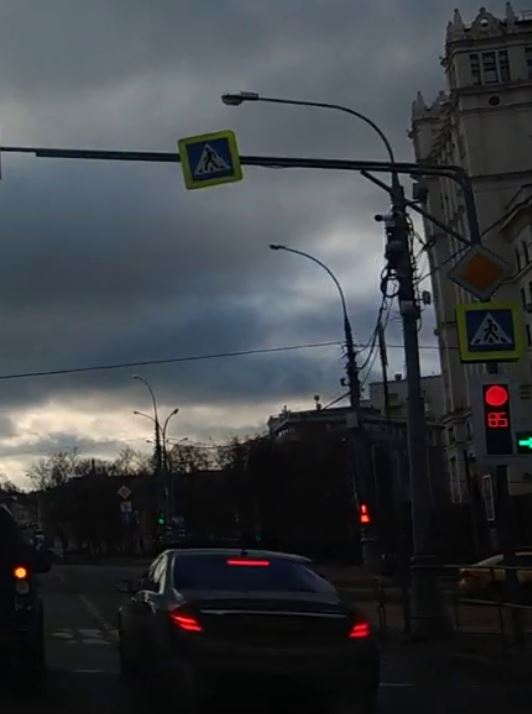Yaya Gecidi: (466, 306, 520, 354), (182, 138, 234, 182)
